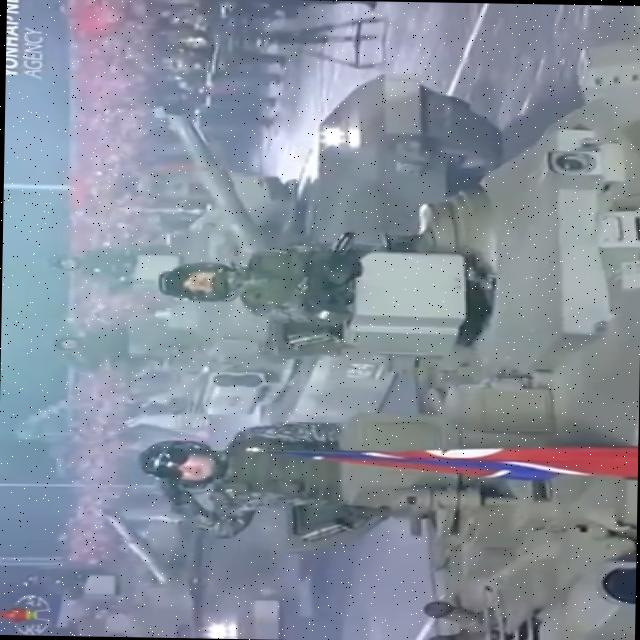north tank: (310, 27, 640, 640), (108, 58, 519, 438), (67, 501, 337, 640)
